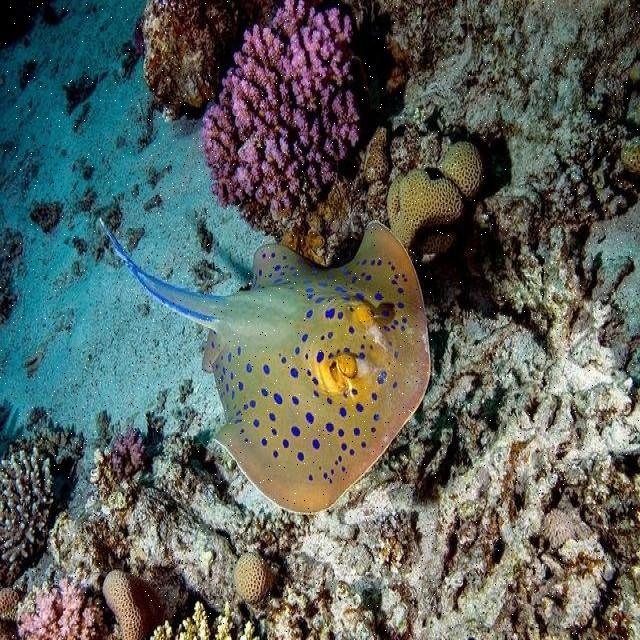fish: (99, 217, 430, 515)
reefs: (202, 1, 361, 221), (386, 140, 484, 257), (1, 447, 54, 586), (102, 569, 165, 639), (233, 551, 274, 603)
